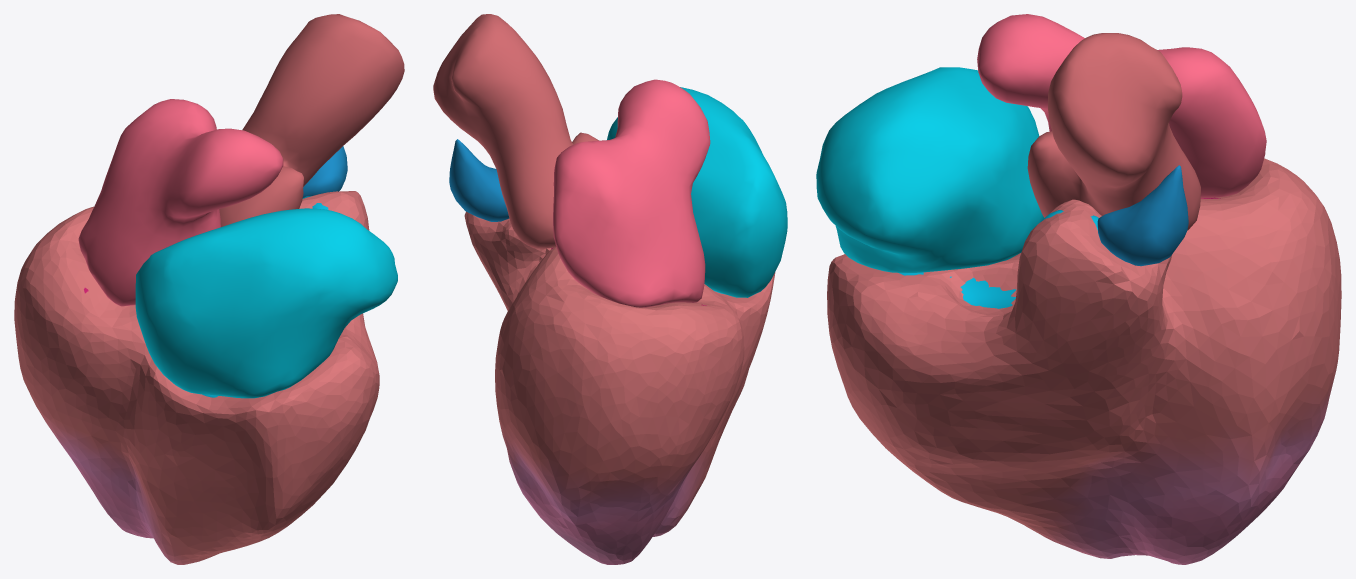
File: frame_4.glb
3 renders of one model, left to right at view 1: azimuth 30°, elevation 25°; view 2: azimuth 150°, elevation 25°; view 3: azimuth 270°, elevation 25°, orthographic. The views are drawn at different scales.
Parts seen in each view (by area): view 1: Renderer Node; view 2: Renderer Node; view 3: Renderer Node.
Boxes of the visible parts, <box> form: Renderer Node: <box>14,14,404,564</box>; Renderer Node: <box>433,14,787,564</box>; Renderer Node: <box>816,14,1341,564</box>.
Bounding box in the file's own units: 108 × 157 × 121.
